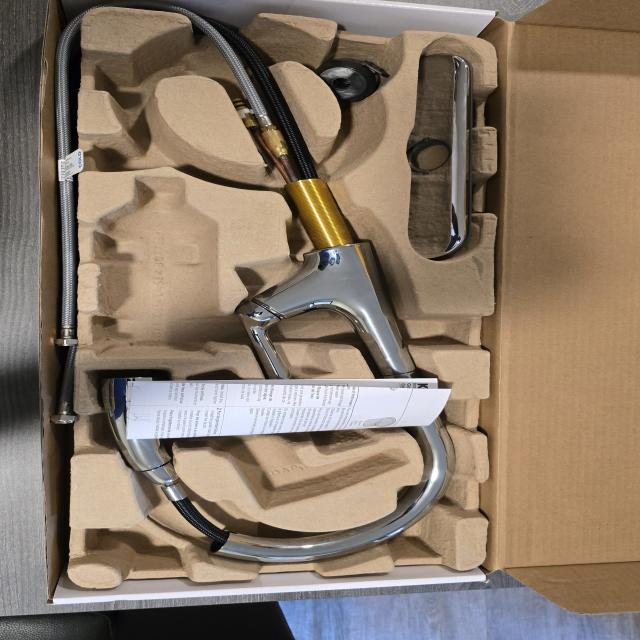1o: (99, 12, 456, 564)
2m: (186, 370, 405, 507)
3m: (95, 175, 219, 356)
4: (409, 53, 470, 257)
5: (318, 60, 389, 103)
6m: (95, 40, 192, 101)
7m: (82, 109, 234, 179)
8: (125, 377, 451, 440)
